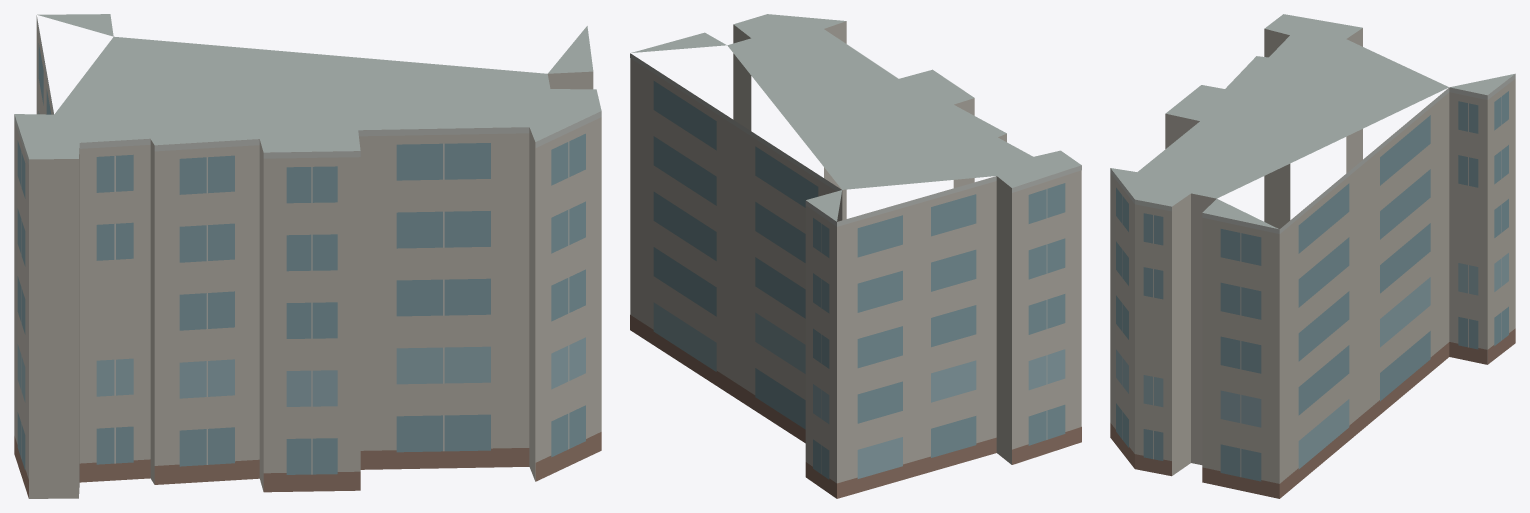
The model's file is survey-upis-32525612.glb.
3 renders of one model, left to right at view 1: azimuth 30°, elevation 25°; view 2: azimuth 150°, elevation 25°; view 3: azimuth 270°, elevation 25°, orthographic. The views are drawn at different scales.
Visible parts, largest first — view 1: survey-upis-32525612.tmp; view 2: survey-upis-32525612.tmp; view 3: survey-upis-32525612.tmp.
Part boxes in pixels (x1,y1,x2,y2): survey-upis-32525612.tmp: (14,14,601,498); survey-upis-32525612.tmp: (630,14,1081,498); survey-upis-32525612.tmp: (1110,14,1515,498).
Bounding box in the file's own units: 23.22 × 13.55 × 18.47.
